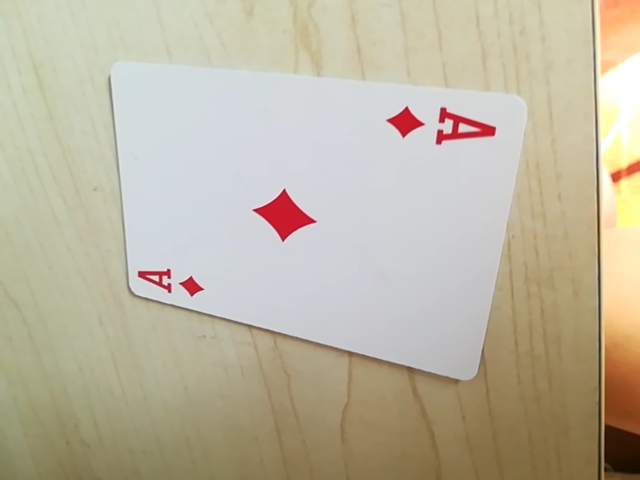fk a: (384, 100, 500, 153), (132, 260, 215, 304)
